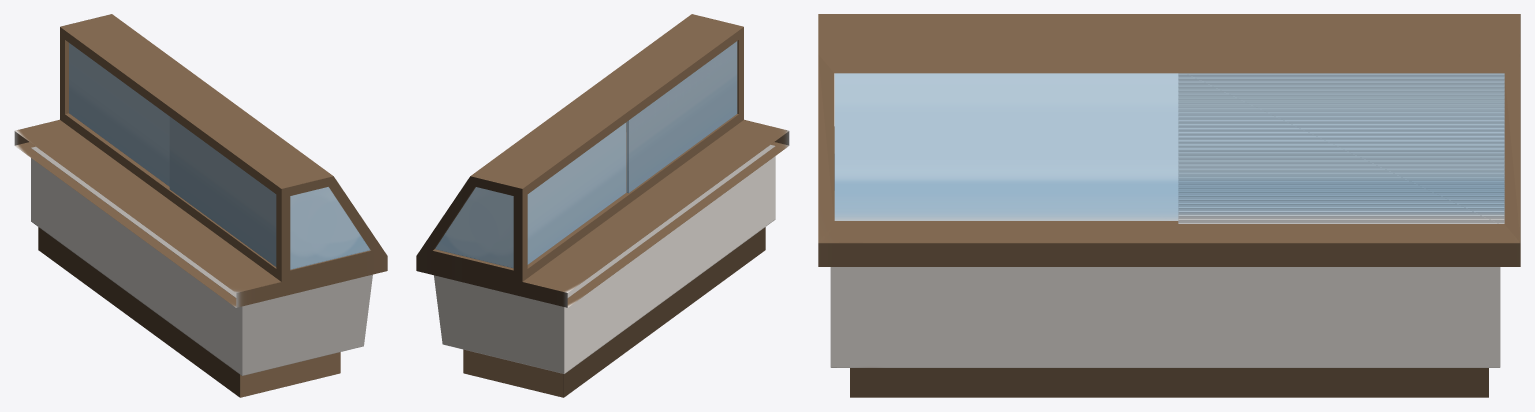
File: Prilavok_freezer_type1.FBX
3 renders of one model, left to right at view 1: azimuth 30°, elevation 25°; view 2: azimuth 150°, elevation 25°; view 3: azimuth 270°, elevation 25°, orthographic. The views are drawn at different scales.
Parts seen in each view (by area): view 1: Prilavok_freezer_type1_002; view 2: Prilavok_freezer_type1_002; view 3: Prilavok_freezer_type1_002.
Part boxes in pixels (x1,y1,x2,y2): Prilavok_freezer_type1_002: (14,14,387,397); Prilavok_freezer_type1_002: (416,14,789,397); Prilavok_freezer_type1_002: (818,14,1520,397).
Size of the model in its own units: 216 by 283 by 545.
Materials: 1 (1 with a texture image).
